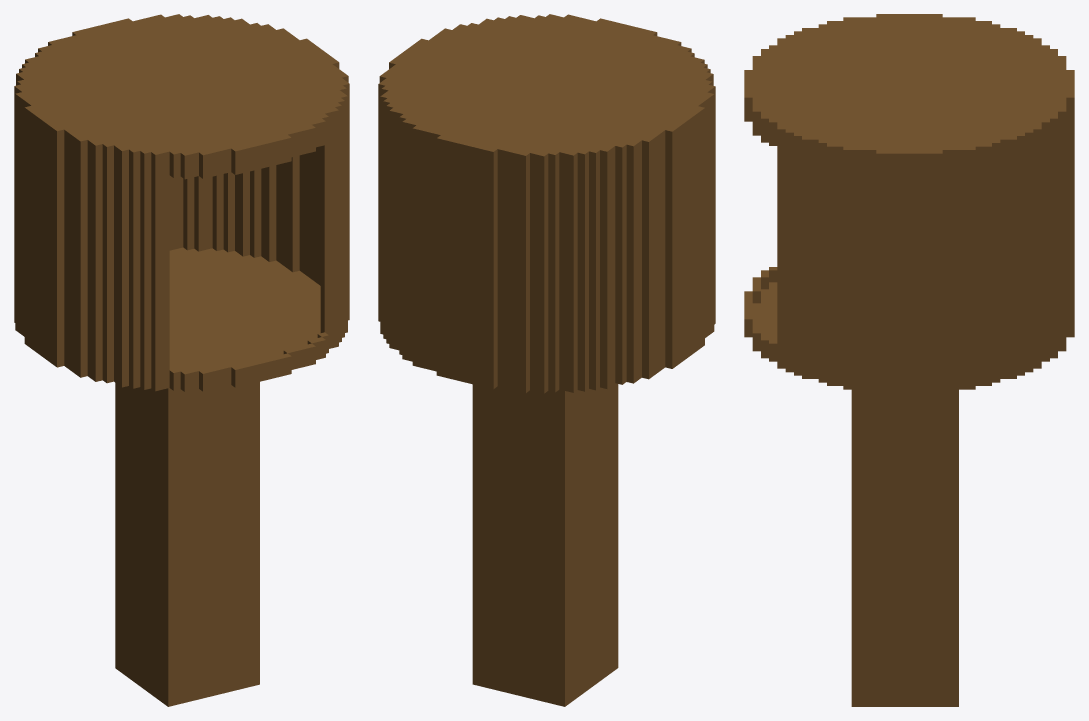
Rendered from lamp.glb.
3 renders of one model, left to right at view 1: azimuth 30°, elevation 25°; view 2: azimuth 150°, elevation 25°; view 3: azimuth 270°, elevation 25°, orthographic.
Visible parts, largest first — view 1: Untitled; view 2: Untitled; view 3: Untitled.
Part boxes in pixels (<box>): Untitled: <box>14,14,349,706</box>; Untitled: <box>378,14,715,706</box>; Untitled: <box>744,14,1074,706</box>.
Bounding box in the file's own units: 0.5 × 1 × 0.5.
1 material, 1 textured.
